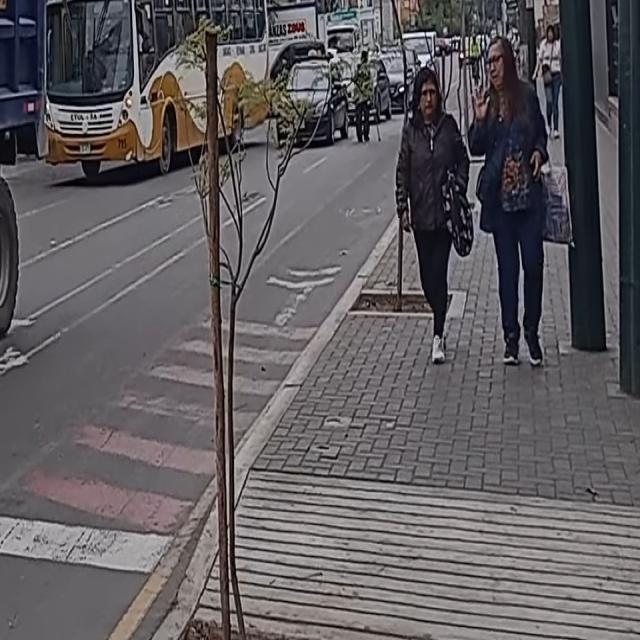bus: (41, 0, 274, 183), (276, 58, 349, 148)
truck: (0, 0, 50, 484)
